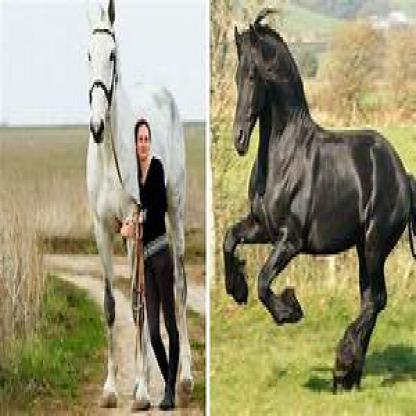horse: (222, 19, 414, 398), (80, 0, 196, 414)
